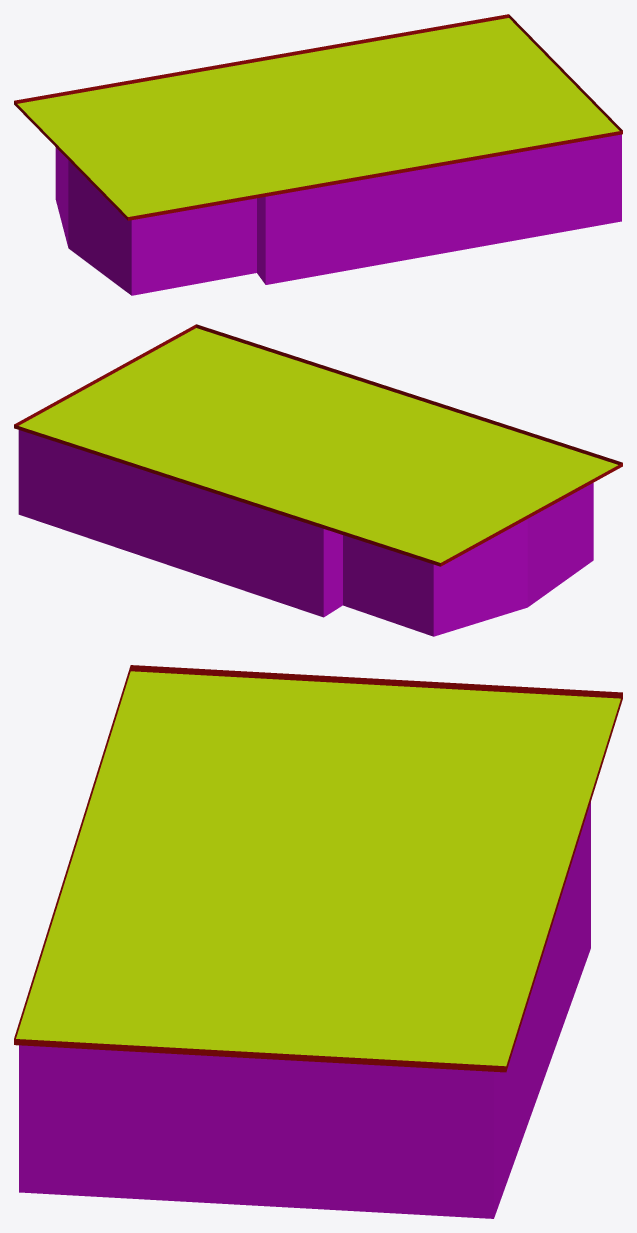
File: bgj_18.glb
3 renders of one model, top to bottom at view 1: azimuth 30°, elevation 25°; view 2: azimuth 150°, elevation 25°; view 3: azimuth 270°, elevation 25°, orthographic. The views are drawn at different scales.
Visible parts, largest first — view 1: bgj_18; view 2: bgj_18; view 3: bgj_18.
Boxes of the visible parts, x1,y1,x2,y2 form: bgj_18: [14, 14, 622, 295]; bgj_18: [14, 324, 622, 636]; bgj_18: [14, 665, 622, 1218].
Size of the model in its own units: 48.24 by 8.6 by 30.94.
